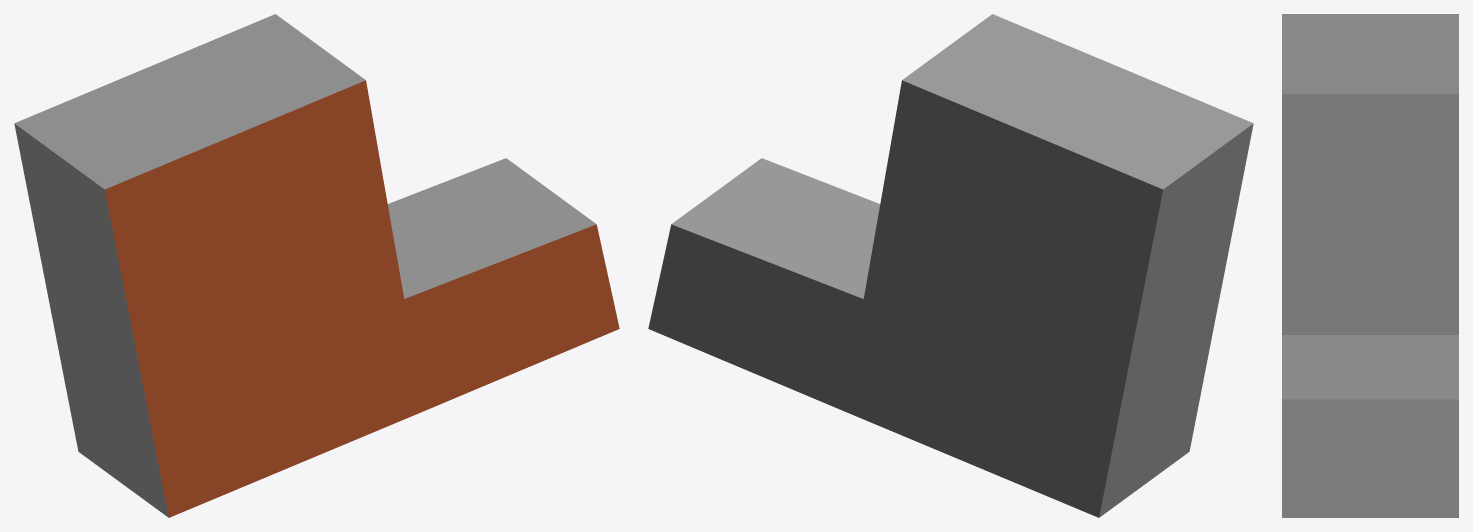
File: construction_6354_assumed_A_Casa_h6m.obj
3 renders of one model, left to right at view 1: azimuth 30°, elevation 25°; view 2: azimuth 150°, elevation 25°; view 3: azimuth 270°, elevation 25°, orthographic. The views are drawn at different scales.
Parts seen in each view (by area): view 1: construction_6354_assumed_A_Casa; view 2: construction_6354_assumed_A_Casa; view 3: construction_6354_assumed_A_Casa.
Part boxes in pixels (<box>): construction_6354_assumed_A_Casa: <box>14,14,619,517</box>; construction_6354_assumed_A_Casa: <box>648,14,1253,517</box>; construction_6354_assumed_A_Casa: <box>1282,14,1458,517</box>.
Size of the model in its own units: 19.71 by 14.25 by 6.
